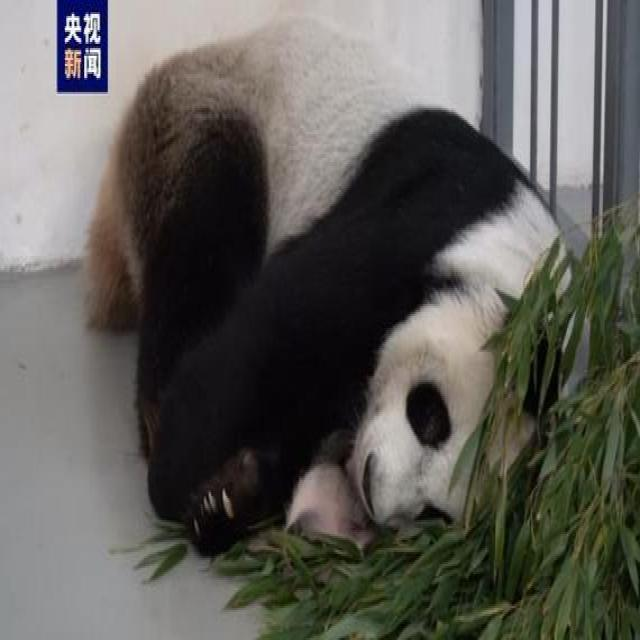panda: (74, 9, 575, 557)
